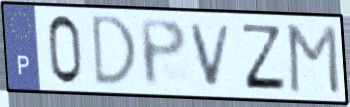0: (46, 13, 84, 86)
D: (91, 13, 140, 89)
M: (286, 22, 343, 97)
P: (136, 17, 190, 90)
V: (188, 22, 236, 89)
Z: (240, 21, 289, 93)
